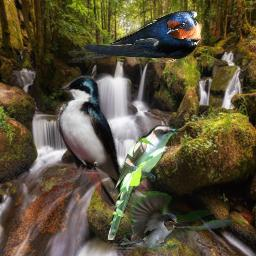Cuckoo: (107, 125, 182, 240)
Swallow: (55, 75, 136, 206), (68, 9, 203, 63), (120, 191, 232, 250)
